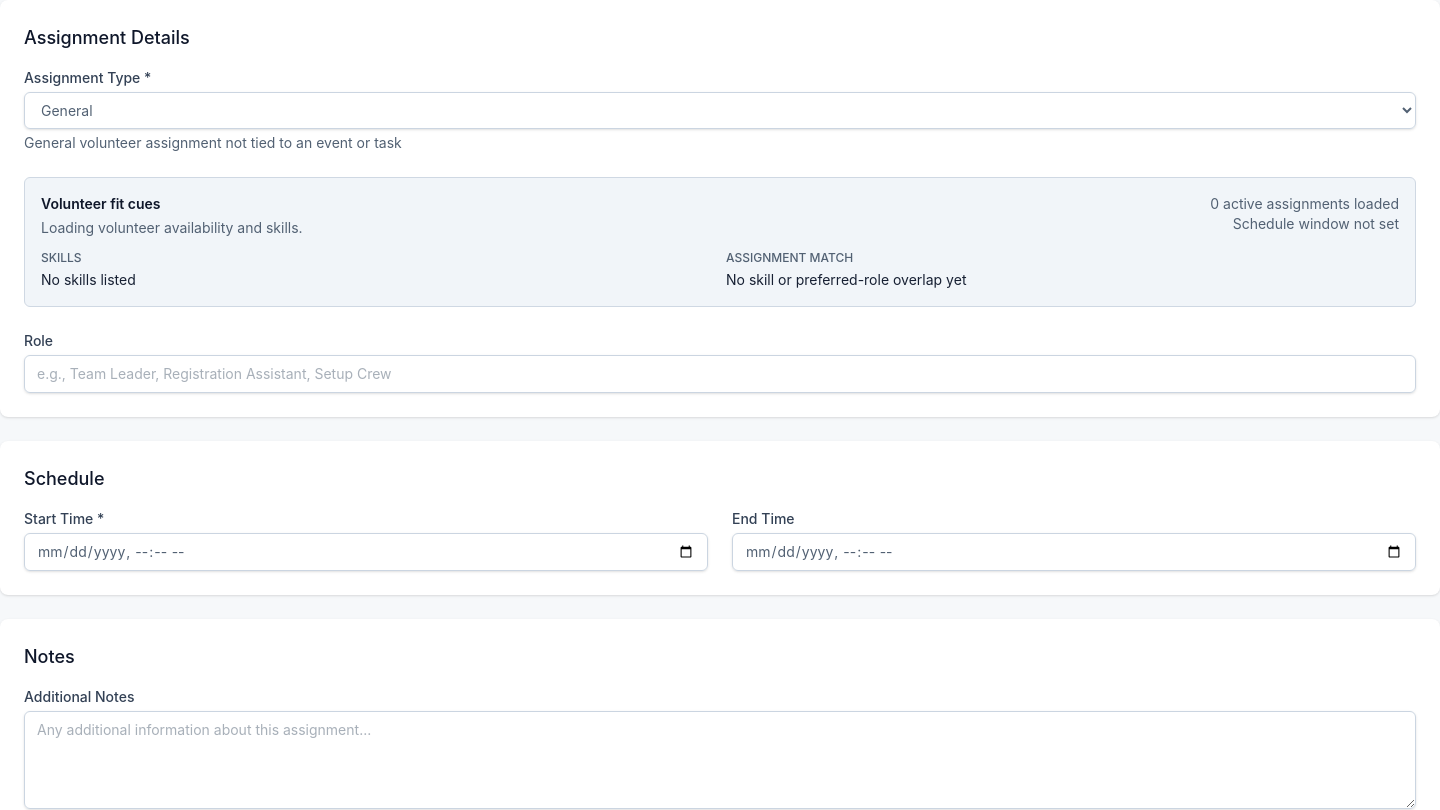
Test case: AssignmentForm › Conditional Fields › shows event ID field when type is event
This screenshot has width=1440, height=810.
Select "Event" in the dropdown labelled "Assignment Type *" at point(720, 110), box [24,92,1416,129]
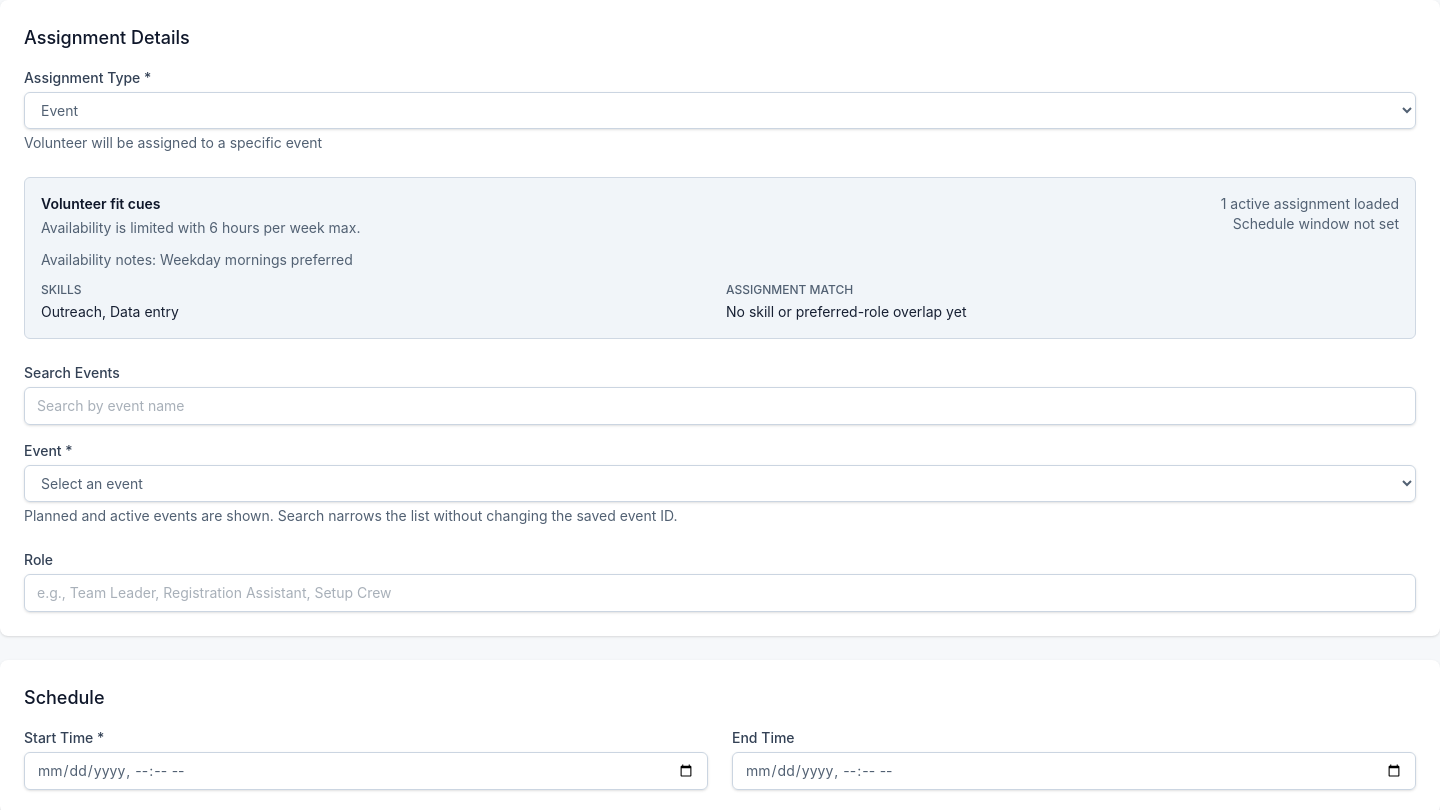
Result: the dropdown labelled "Event *" is shown at [24,465,1416,502]
